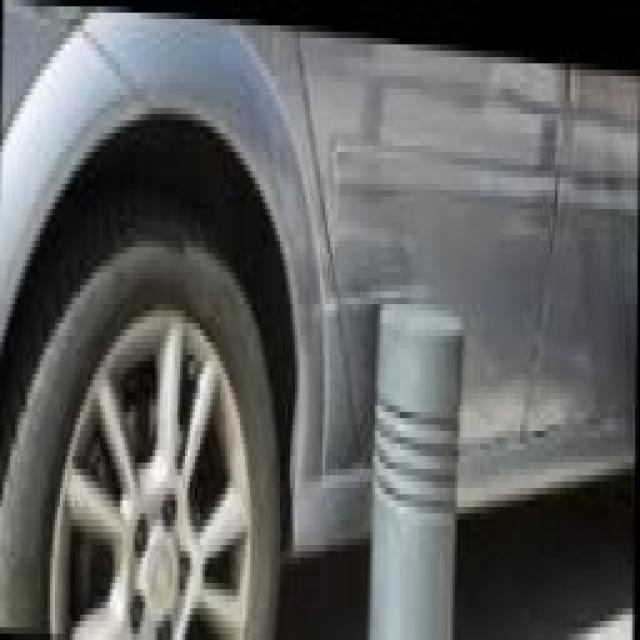Door: (332, 234, 446, 338)
Fender: (288, 228, 339, 359)
